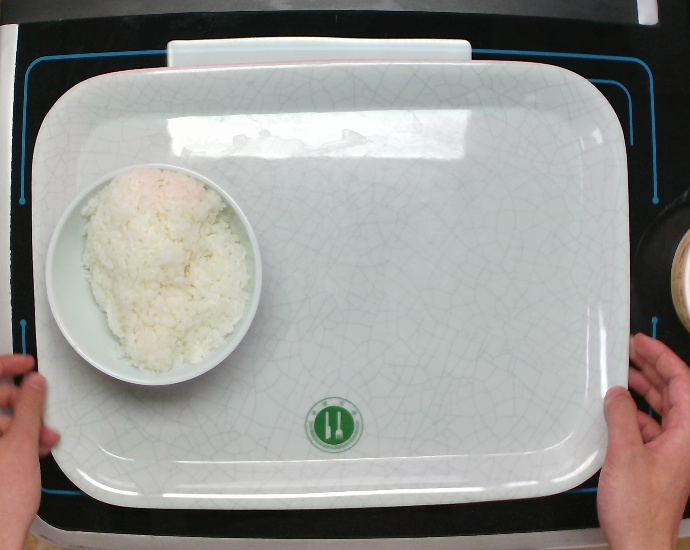JYsf-Fan_Wan: (43, 161, 264, 388)
